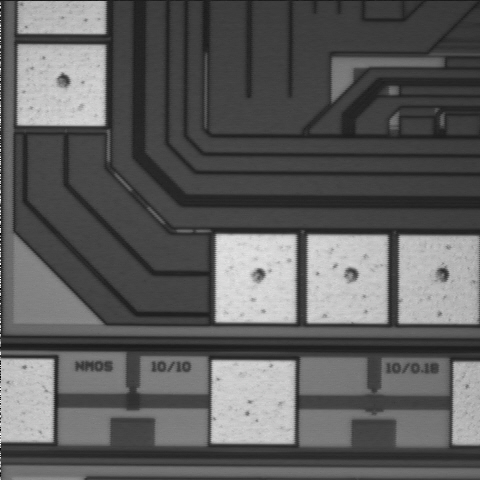pad: (18, 45, 105, 126), (216, 234, 296, 322), (308, 235, 387, 323), (212, 361, 295, 443), (400, 236, 478, 323)
